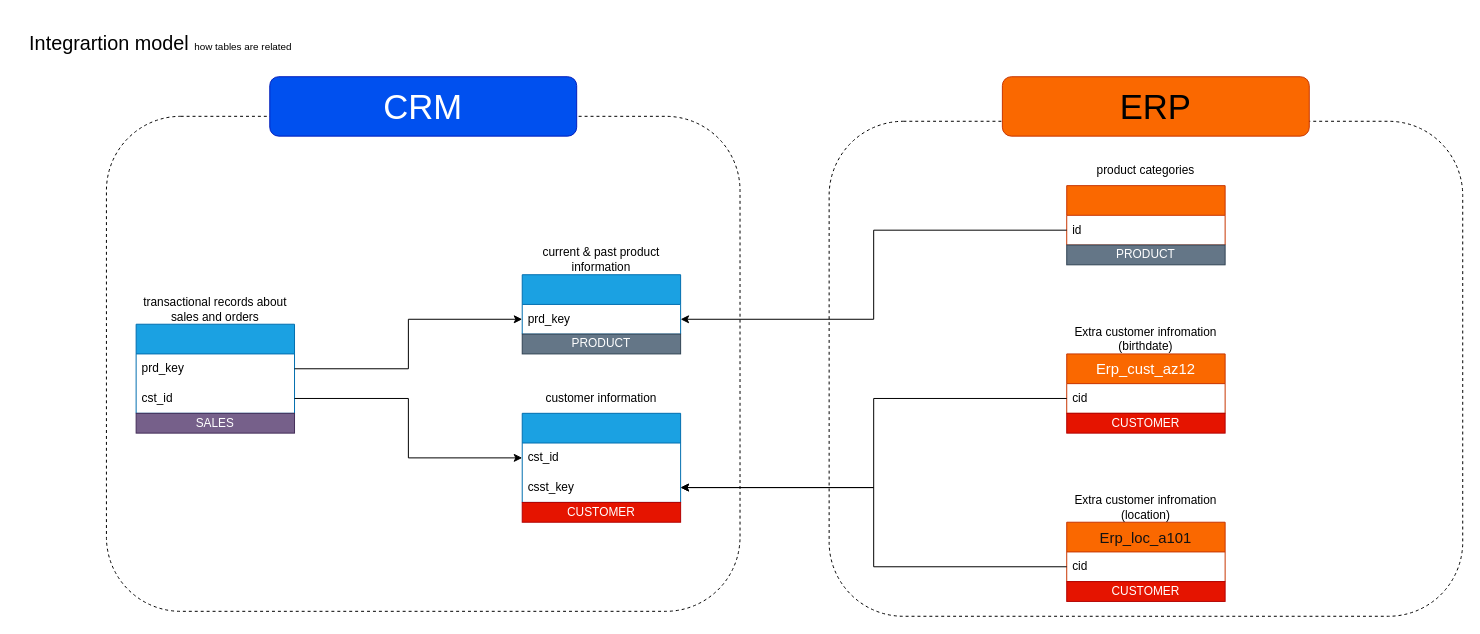
Image size: 1480x634. Some labels were removed from this diagram. The shapes that lost their labels are listed below. From the top down, each one's box as (x1, y1, x2, y2) in pixels, then its label:
(1066, 185, 1225, 245): erp_px_cat_g1v2
(521, 274, 681, 334): crm_prd_info
(135, 323, 295, 413): crm_sales_details
(521, 412, 681, 502): crm_cust_info
